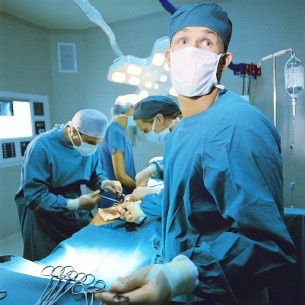Mask: (170, 28, 233, 91)
